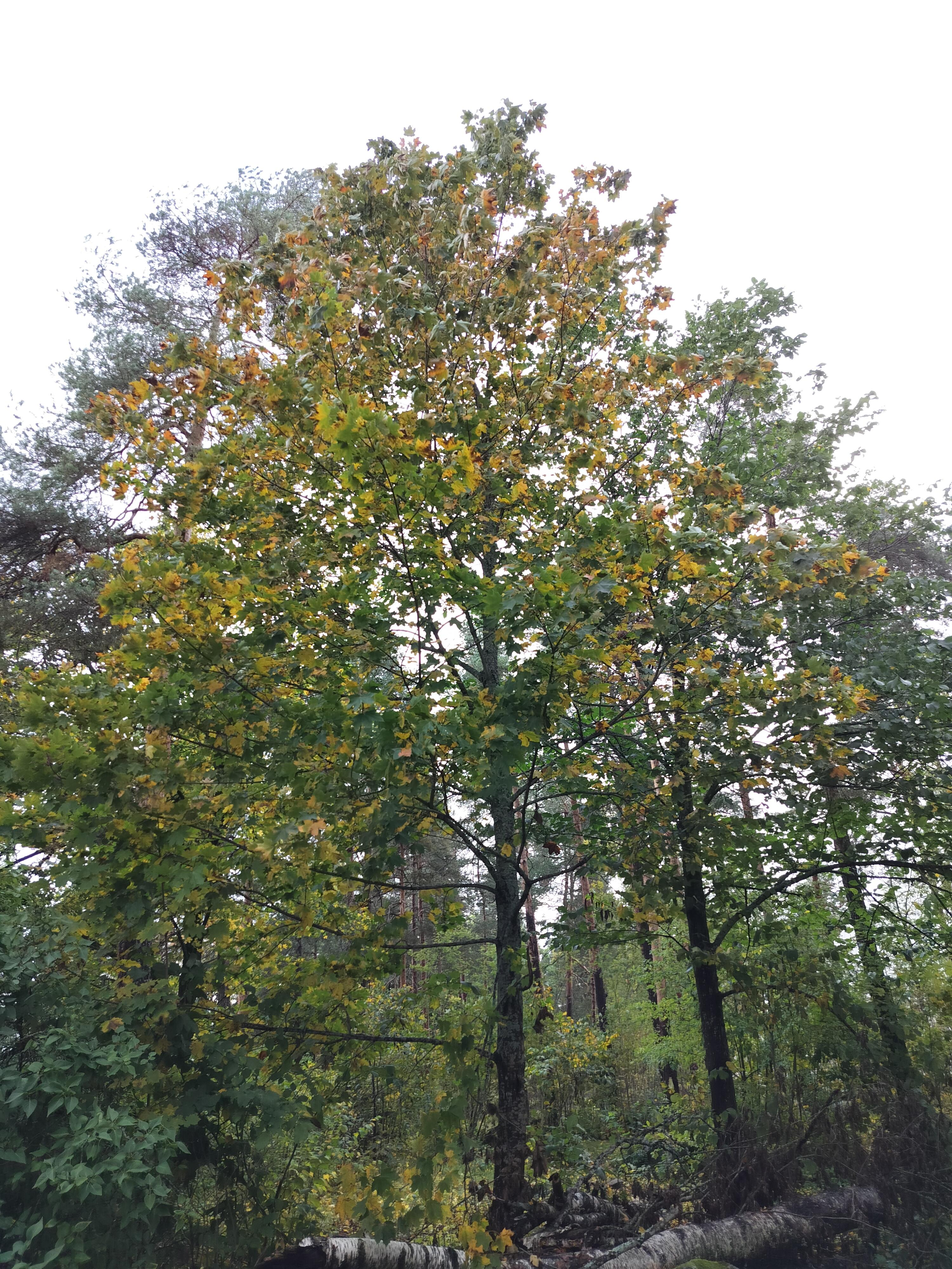Maple: (134, 77, 678, 1265), (506, 194, 838, 1146)
